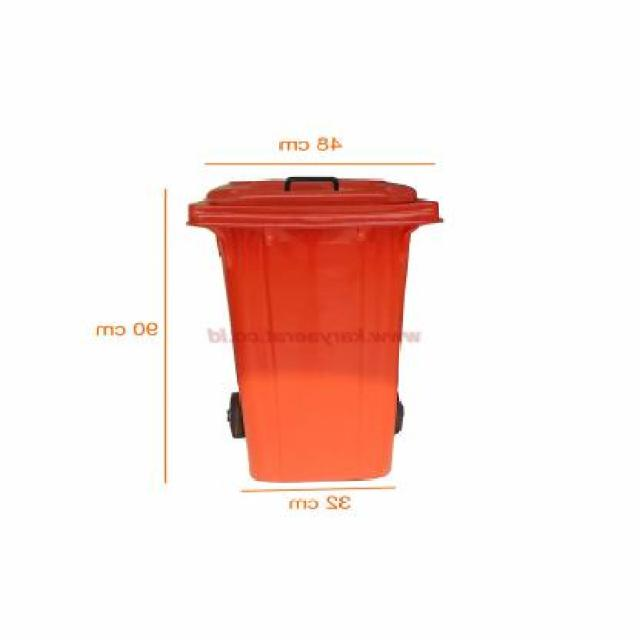garbage container: (178, 170, 452, 484)
